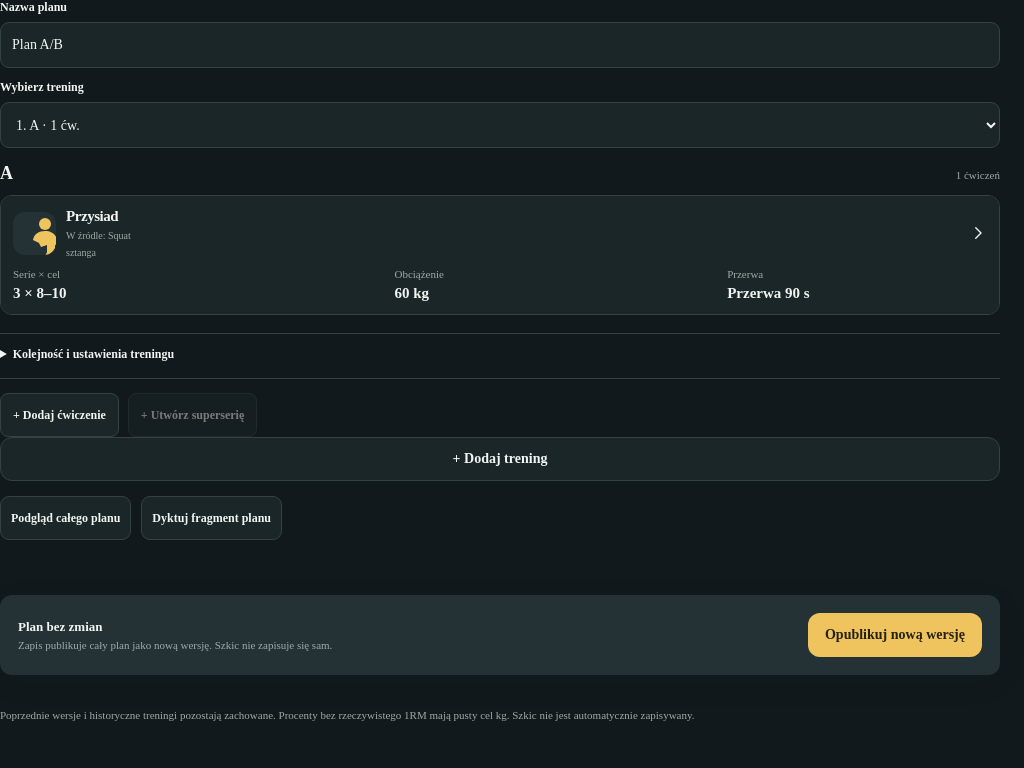
it: waliduje fragment mimo nieukończonego ćwiczenia w innym treningu
Click the button with aria-label "Edytuj ćwiczenie:".
click(34, 233)  # box [1,196,999,314]
(page scrolled)
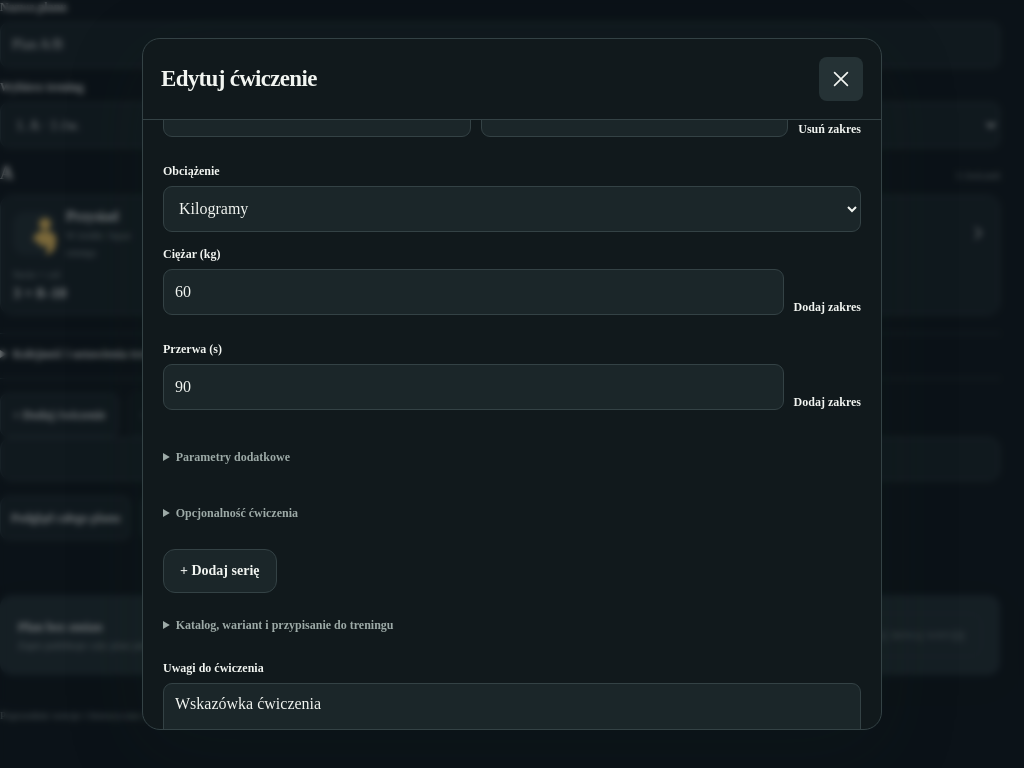
Replace the text in the number field labelled "Przerwa (s)" with "60" at (473, 387), box [163,364,784,410]
(page scrolled)
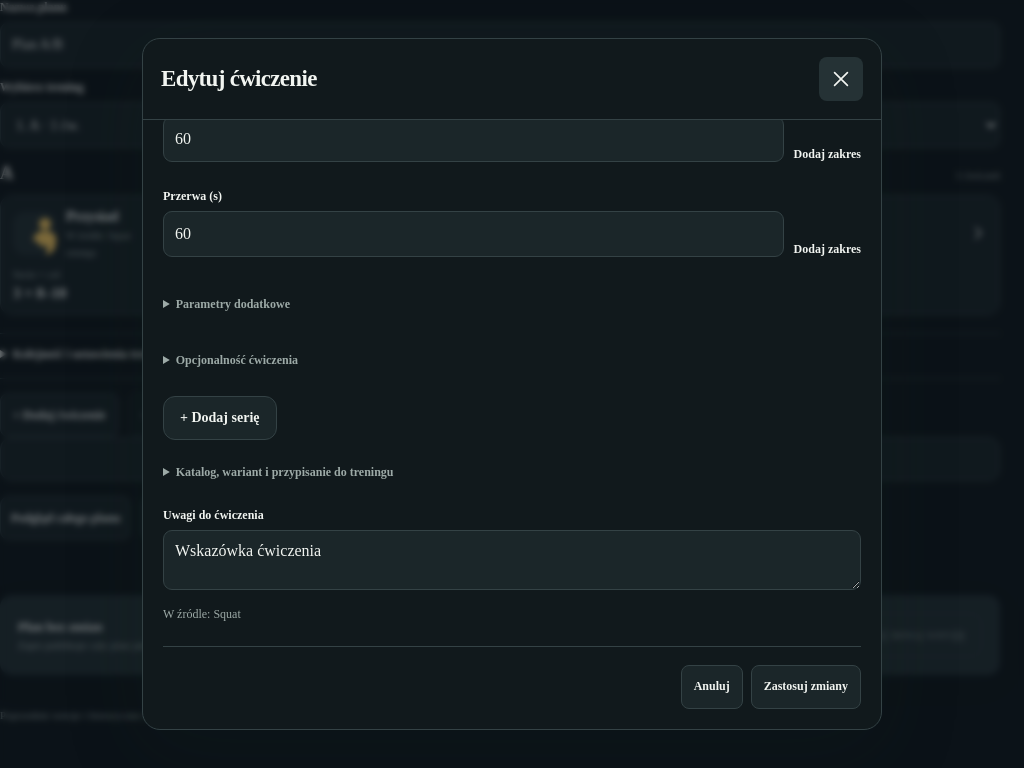
Click the button "Zastosuj zmiany".
click(806, 687)  # box [751,665,861,709]
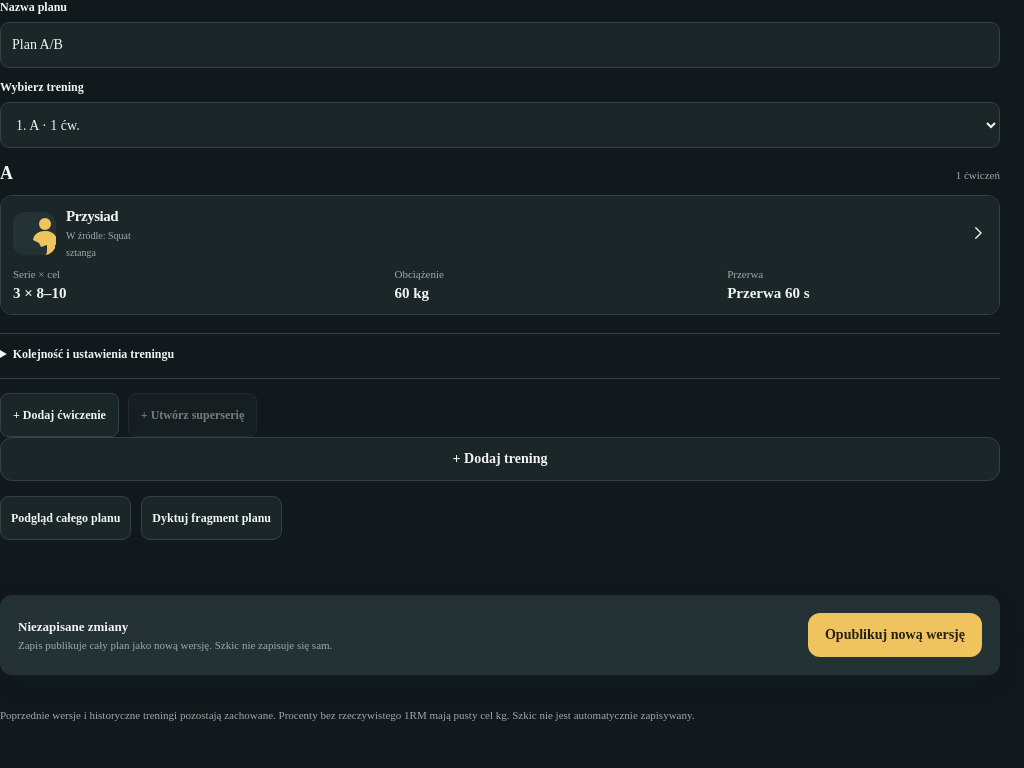
Expected: the text "60 kg" is shown, [394,285,429,301]
Now the dialog is gone
Now the text "Przerwa 60 s" is shown, box [727,285,810,301]
Click the button "Opublikuj nową wersję".
click(895, 635)  # box [808,613,982,657]
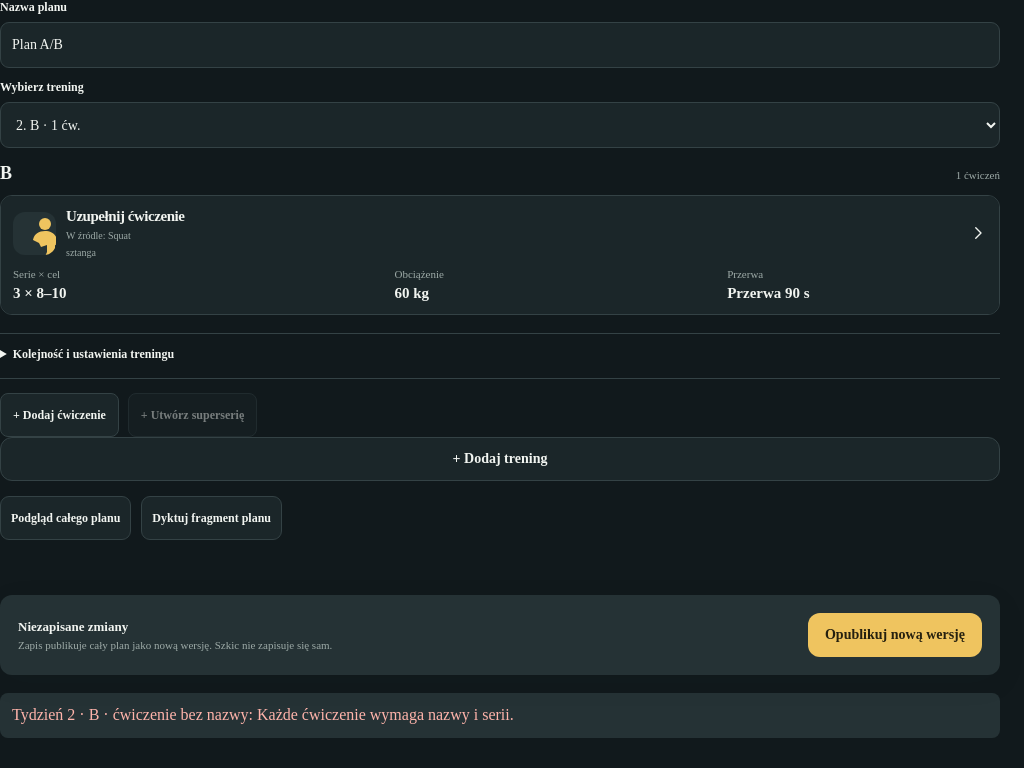
Now the message "Tydzień 2 · B · ćwiczenie bez nazwy: Każde ćwiczenie wymaga nazwy i serii." is shown, box [0,693,1000,738]
